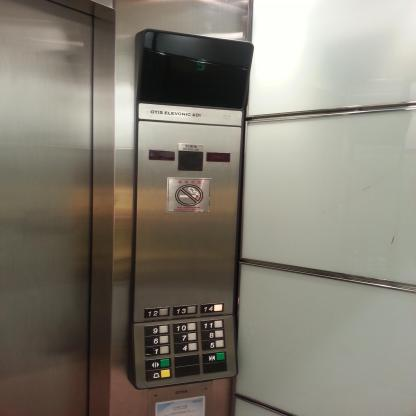1: (143, 343, 171, 357)
10: (172, 320, 197, 334)
11: (199, 318, 225, 330)
12: (143, 306, 170, 319)
13: (172, 303, 197, 316)
14: (199, 302, 224, 314)
4: (173, 340, 199, 354)
5: (200, 338, 226, 351)
6: (144, 333, 170, 346)
7: (172, 330, 198, 344)
8: (199, 328, 224, 341)
9: (143, 323, 170, 337)
alarm: (145, 367, 171, 382)
close: (201, 350, 226, 363)
led: (132, 26, 256, 113)
open: (144, 356, 172, 372)
